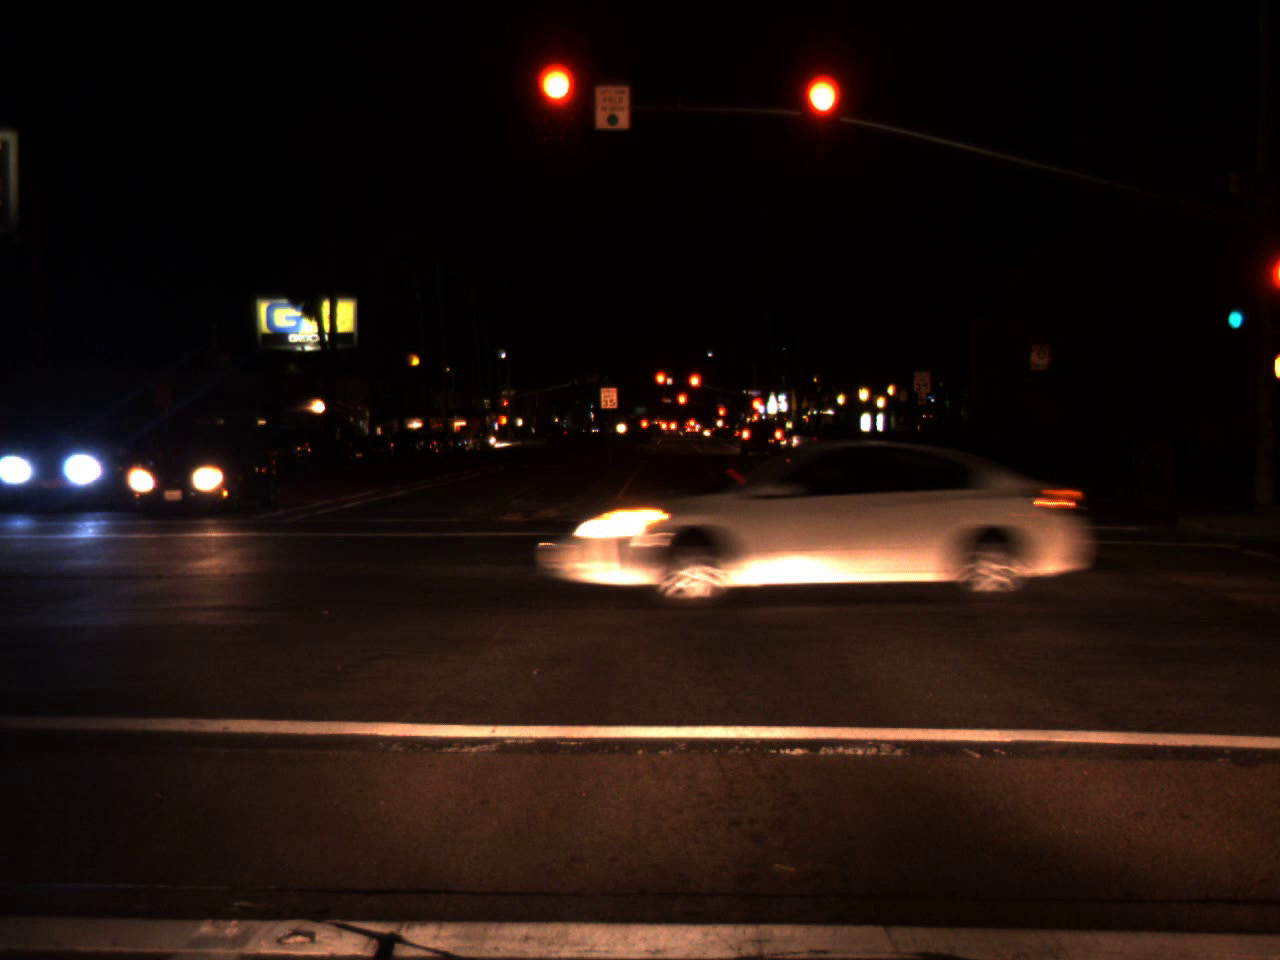stop: (538, 65, 578, 143), (801, 75, 841, 153), (653, 369, 668, 401), (686, 372, 702, 401), (749, 396, 764, 423), (676, 391, 688, 418), (717, 406, 727, 427), (503, 398, 509, 414)
